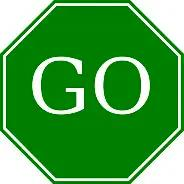Go: (8, 7, 175, 177)
Slow: (3, 3, 180, 180)
